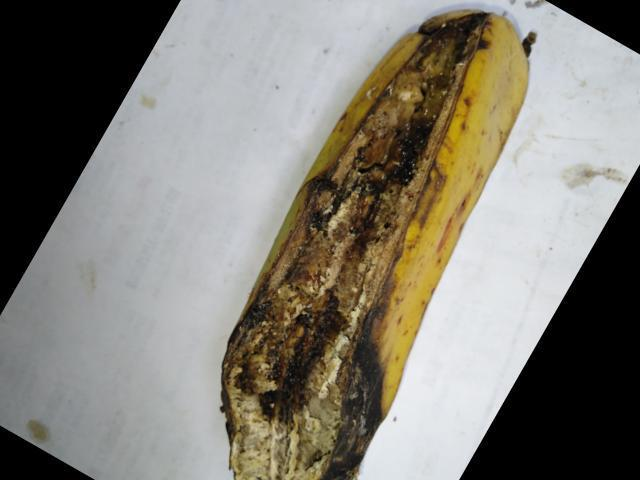rotten: (197, 11, 513, 471)
